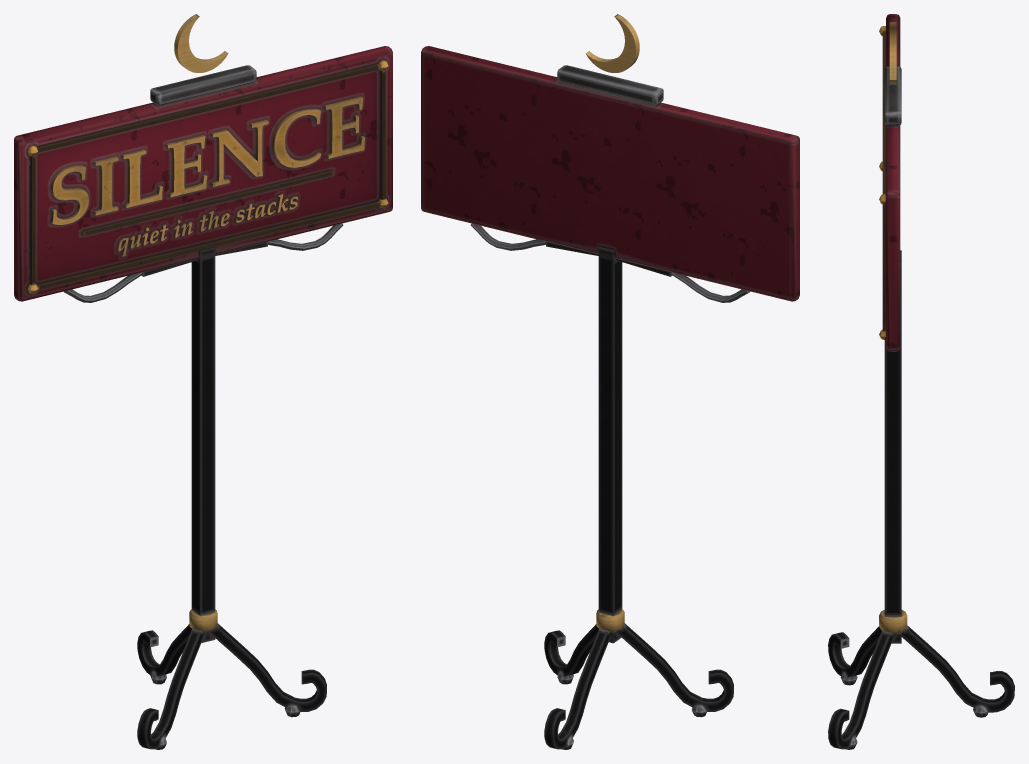
Rendered from SilenceSign.fbx.
3 views of the same model, side by side, from view 1: azimuth 30°, elevation 25°; view 2: azimuth 150°, elevation 25°; view 3: azimuth 270°, elevation 25° (orthographic).
Visible parts, largest first — view 1: SilenceSign; view 2: SilenceSign; view 3: SilenceSign.
Part boxes in pixels (x1,y1,x2,y2): SilenceSign: [14, 14, 392, 749]; SilenceSign: [421, 14, 799, 749]; SilenceSign: [828, 14, 1014, 749].
Size of the model in its own units: 300 by 537 by 131.
